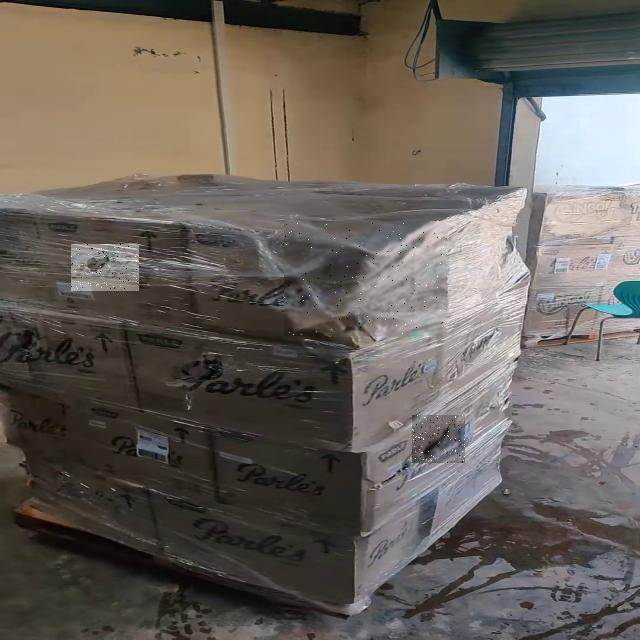squeeze: (285, 221, 445, 335)
tear: (72, 245, 138, 289), (412, 415, 465, 463)
